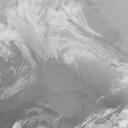cyclone: (39, 37, 110, 109)
